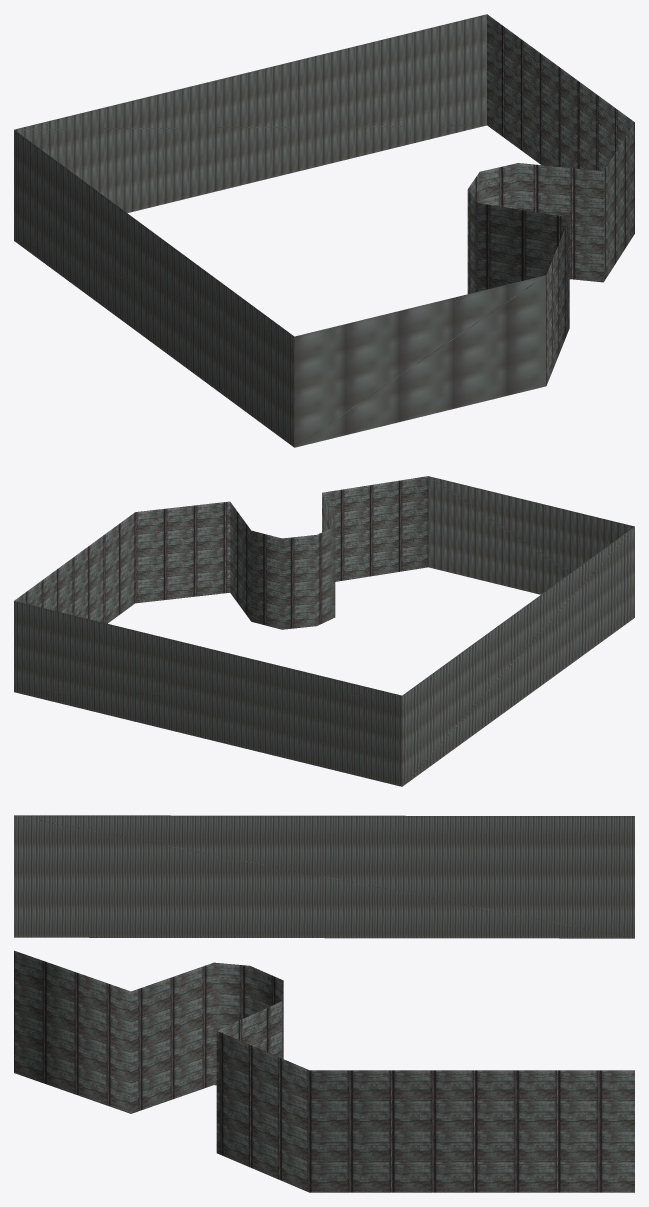
Rendered from LAKETOWN_EXTERIOR_PS_LT_LINE010.obj.
3 renders of one model, top to bottom at view 1: azimuth 30°, elevation 25°; view 2: azimuth 150°, elevation 25°; view 3: azimuth 270°, elevation 25°, orthographic. The views are drawn at different scales.
Parts seen in each view (by area): view 1: LT_Line010; view 2: LT_Line010; view 3: LT_Line010.
Boxes of the visible parts, <box> form: LT_Line010: <box>14,14,634,447</box>; LT_Line010: <box>14,476,634,786</box>; LT_Line010: <box>14,815,634,1192</box>.
Size of the model in its own units: 3222 by 722 by 3316.
